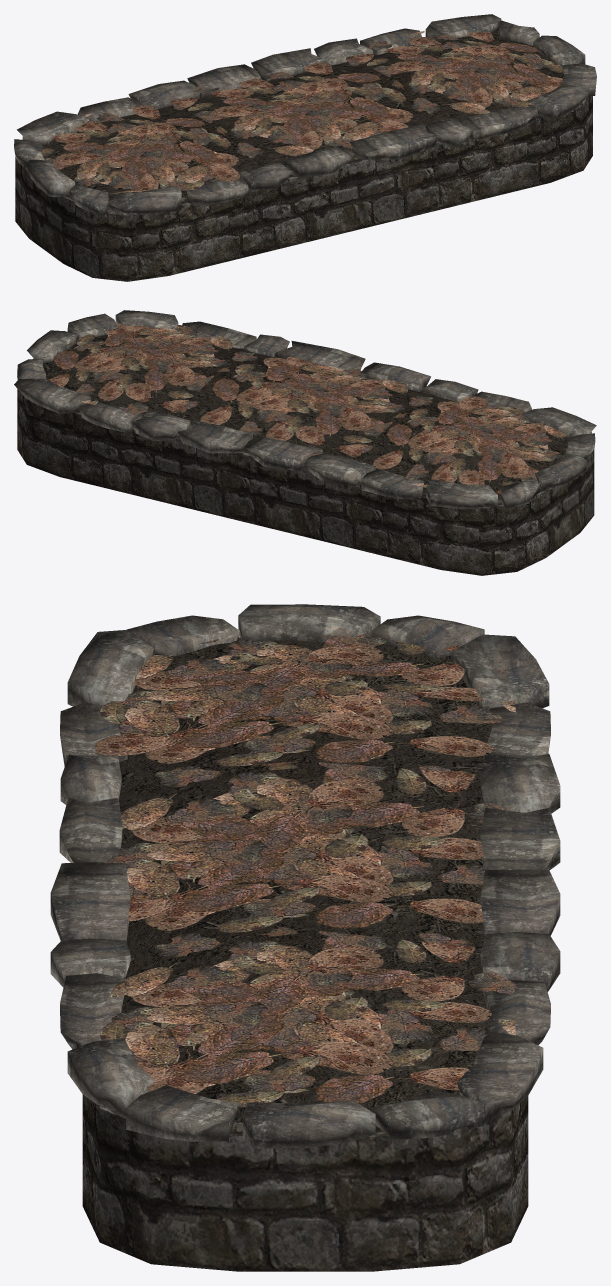
Rendered from planter_01.DAE.
The picture shows the model from 3 angles, top to bottom: view 1: azimuth 30°, elevation 25°; view 2: azimuth 150°, elevation 25°; view 3: azimuth 270°, elevation 25°; orthographic projection. The views are drawn at different scales.
Visible parts, largest first — view 1: Box002, Box004, Box003, Plane001; view 2: Box002, Box004, Box003, Plane001; view 3: Box004, Box003, Box002, Plane001.
Boxes of the visible parts, x1,y1,x2,y2 form: Box002: (15, 31, 592, 281); Box004: (37, 31, 566, 194); Box003: (14, 14, 596, 215); Plane001: (42, 33, 563, 201); Box002: (17, 389, 594, 575); Box004: (42, 323, 567, 494); Box003: (14, 310, 596, 509); Plane001: (43, 334, 566, 500); Box004: (95, 633, 515, 1106); Box003: (50, 604, 560, 1148); Box002: (82, 637, 528, 1271); Plane001: (118, 638, 492, 1122).
Size of the model in its own units: 4.16 by 0.6617 by 1.72.
